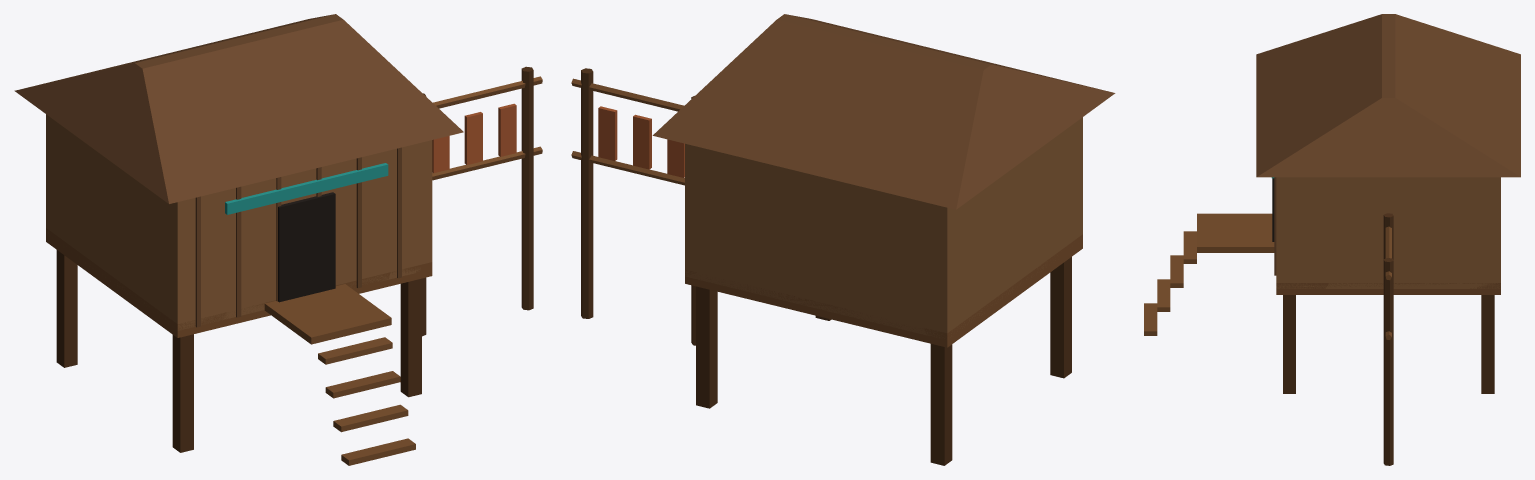
Rendered from bird_house_c_broken.glb.
The picture shows the model from 3 angles, left to right: view 1: azimuth 30°, elevation 25°; view 2: azimuth 150°, elevation 25°; view 3: azimuth 270°, elevation 25°; orthographic projection. The views are drawn at different scales.
Visible parts, largest first — view 1: bird_house_c_piece3, bird_house_c_piece0, bird_house_c_piece4, bird_house_c_piece9, bird_house_c_piece7, bird_house_c_piece10, bird_house_c_piece6, bird_house_c_piece13, bird_house_c_piece11, bird_house_c_piece5, bird_house_c_piece1; view 2: bird_house_c_piece0, bird_house_c_piece7, bird_house_c_piece2, bird_house_c_piece13, bird_house_c_piece8, bird_house_c_piece10, bird_house_c_piece11, bird_house_c_piece3, bird_house_c_piece9; view 3: bird_house_c_piece8, bird_house_c_piece3, bird_house_c_piece7, bird_house_c_piece10, bird_house_c_piece4, bird_house_c_piece9, bird_house_c_piece2, bird_house_c_piece6, bird_house_c_piece5, bird_house_c_piece11, bird_house_c_piece1, bird_house_c_piece0.
Part boxes in pixels (bbox=[...]): bird_house_c_piece3: bbox=[245, 14, 433, 271]; bird_house_c_piece0: bbox=[14, 75, 233, 406]; bird_house_c_piece4: bbox=[241, 161, 408, 465]; bird_house_c_piece9: bbox=[145, 31, 267, 282]; bird_house_c_piece7: bbox=[65, 35, 248, 179]; bird_house_c_piece10: bbox=[421, 66, 542, 189]; bird_house_c_piece6: bbox=[387, 135, 447, 452]; bird_house_c_piece13: bbox=[56, 260, 230, 452]; bird_house_c_piece11: bbox=[422, 141, 533, 336]; bird_house_c_piece5: bbox=[228, 140, 435, 325]; bird_house_c_piece1: bbox=[271, 278, 533, 397]; bird_house_c_piece0: bbox=[872, 107, 1090, 365]; bird_house_c_piece7: bbox=[775, 43, 1085, 243]; bird_house_c_piece2: bbox=[685, 88, 834, 408]; bird_house_c_piece13: bbox=[814, 206, 1071, 465]; bird_house_c_piece8: bbox=[652, 43, 853, 207]; bird_house_c_piece10: bbox=[571, 18, 832, 183]; bird_house_c_piece11: bbox=[581, 141, 695, 345]; bird_house_c_piece3: bbox=[747, 14, 1006, 66]; bird_house_c_piece9: bbox=[836, 34, 1115, 148]; bird_house_c_piece8: bbox=[1385, 68, 1520, 294]; bird_house_c_piece3: bbox=[1256, 63, 1425, 237]; bird_house_c_piece7: bbox=[1330, 14, 1520, 127]; bird_house_c_piece10: bbox=[1256, 153, 1393, 362]; bird_house_c_piece4: bbox=[1144, 81, 1277, 328]; bird_house_c_piece9: bbox=[1256, 31, 1403, 84]; bird_house_c_piece2: bbox=[1444, 90, 1520, 393]; bird_house_c_piece6: bbox=[1144, 164, 1329, 347]; bird_house_c_piece5: bbox=[1266, 197, 1393, 294]; bird_house_c_piece11: bbox=[1383, 348, 1393, 465]; bird_house_c_piece1: bbox=[1265, 213, 1386, 465]; bird_house_c_piece0: bbox=[1468, 37, 1520, 81].
Bounding box in the file's own units: 3.35 × 2.4 × 2.85.
